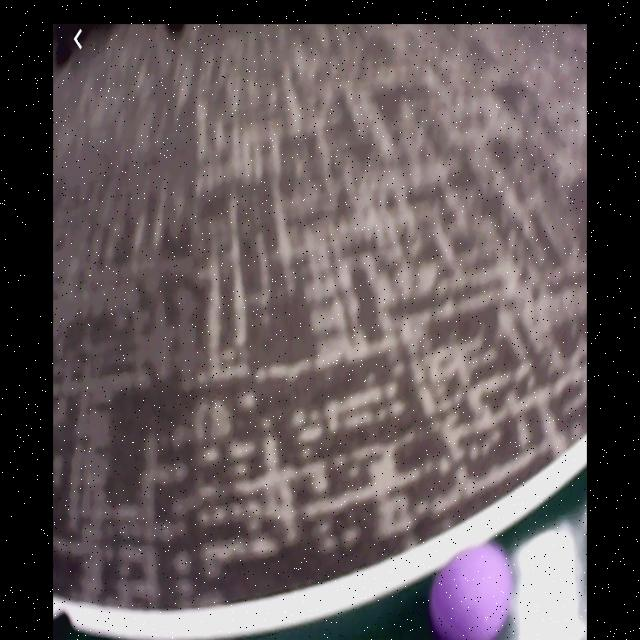ball: (426, 544, 516, 640)
